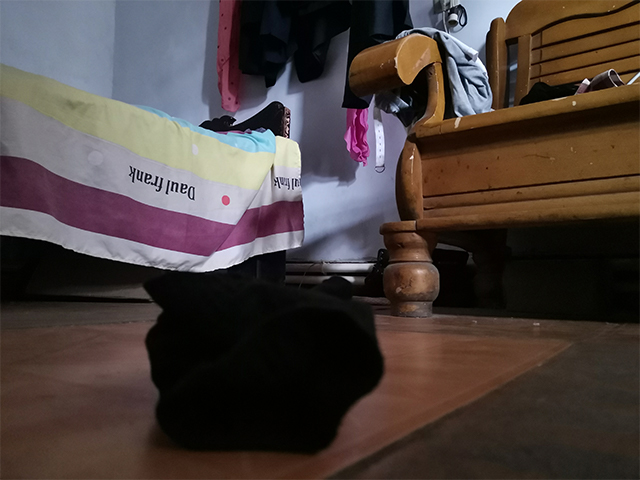bed: (1, 59, 306, 290)
socks: (142, 260, 388, 455)
stool: (346, 1, 640, 319)
